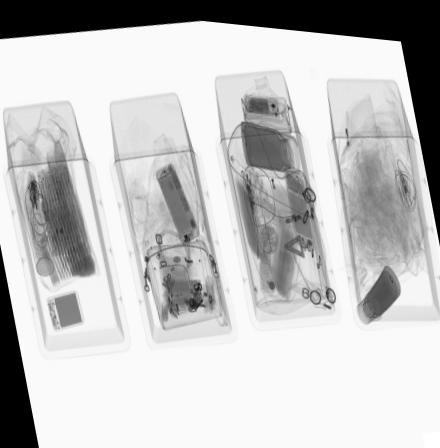Powerbank: (44, 288, 86, 331)
